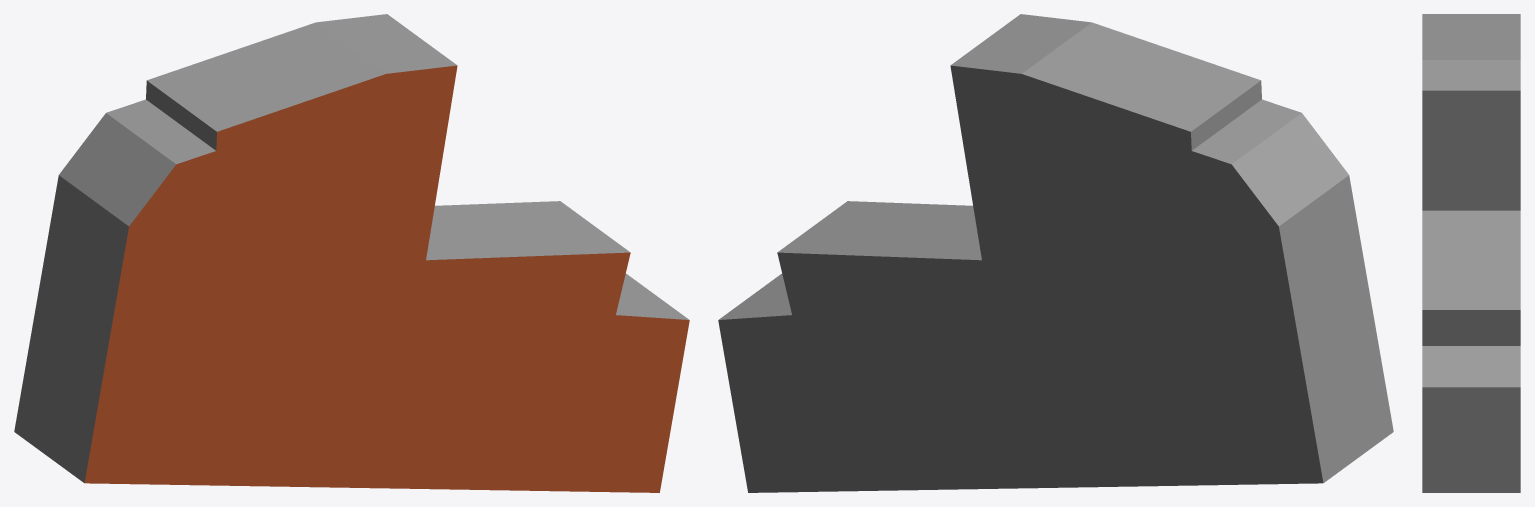
File: construction_5079_assumed_A_Casa_h6m.obj
The picture shows the model from 3 angles, left to right: view 1: azimuth 30°, elevation 25°; view 2: azimuth 150°, elevation 25°; view 3: azimuth 270°, elevation 25°; orthographic projection. The views are drawn at different scales.
Parts seen in each view (by area): view 1: construction_5079_assumed_A_Casa; view 2: construction_5079_assumed_A_Casa; view 3: construction_5079_assumed_A_Casa.
Boxes of the visible parts, x1,y1,x2,y2 form: construction_5079_assumed_A_Casa: (14, 14, 689, 492); construction_5079_assumed_A_Casa: (718, 14, 1393, 492); construction_5079_assumed_A_Casa: (1422, 14, 1520, 492).
Size of the model in its own units: 29.81 by 22.86 by 6.
